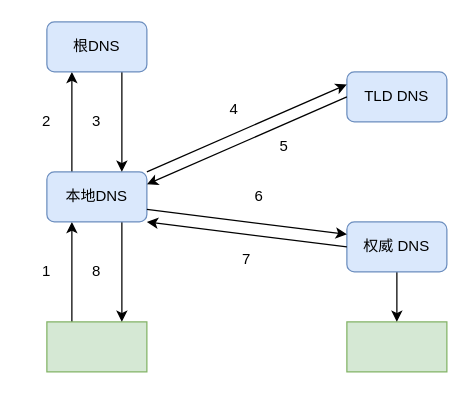
Some shapes in this 469 by 394 pixel diagram are drawn without their labels. The centre of each missing label's shape, as x and y in pixels:
"主机A" belongs at (x=96, y=346).
"主机B" belongs at (x=396, y=346).
